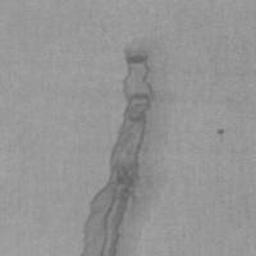Water spot: (77, 36, 178, 256), (216, 128, 225, 138)
